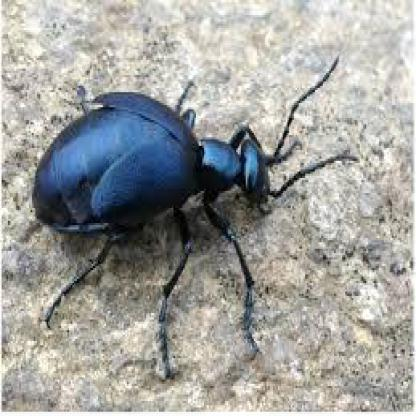blister beetle: (30, 83, 274, 247)
